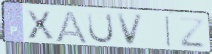A: (53, 9, 90, 45)
I: (165, 15, 173, 48)
U: (86, 11, 115, 45)
V: (115, 13, 146, 47)
X: (24, 9, 57, 41)
Z: (178, 16, 207, 50)
